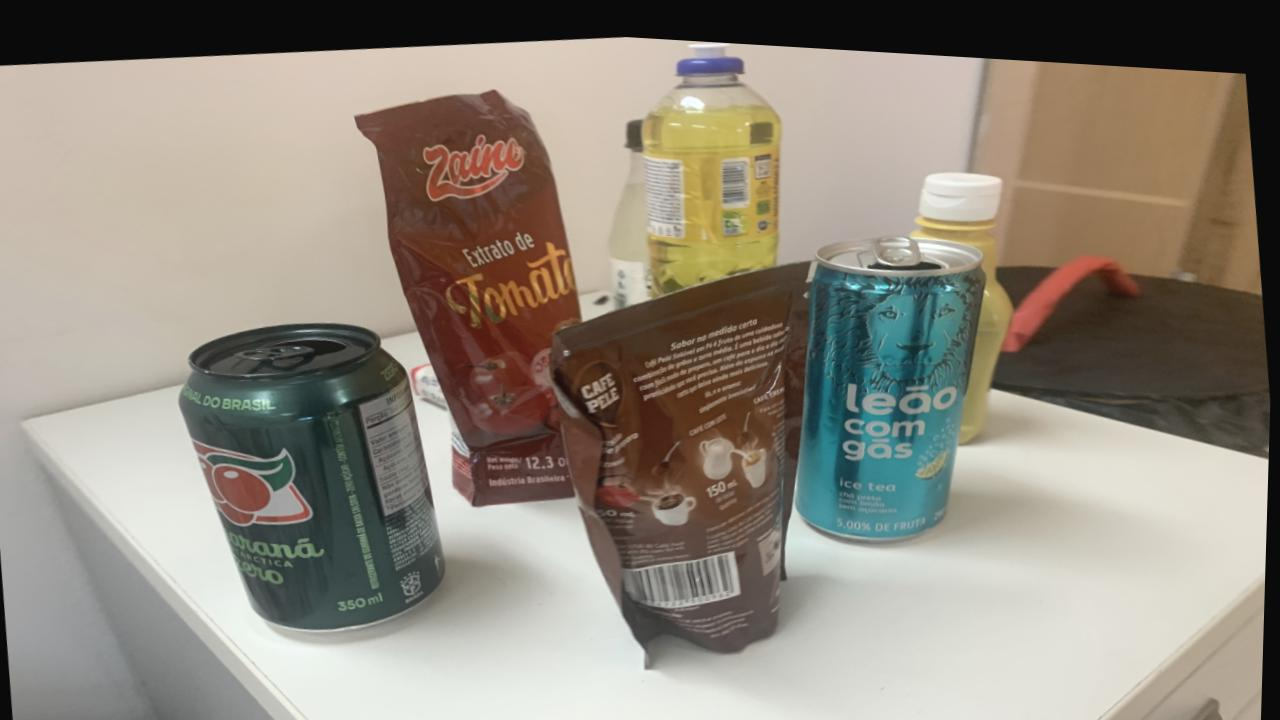Coffee-Pantry_Items: (553, 253, 811, 642)
Detergent-Cleanup_Items: (642, 34, 783, 287)
Guarana_Can-Drinks: (181, 319, 448, 625)
Mustard-Pantry_Items: (913, 159, 1015, 429)
Soap-Cleanup_Items: (412, 358, 450, 403)
Soda-Drinks: (609, 111, 653, 300)
Tea-Drinks: (799, 226, 985, 530)
Tomato_Sauce-Pantry_Items: (356, 83, 582, 500)
